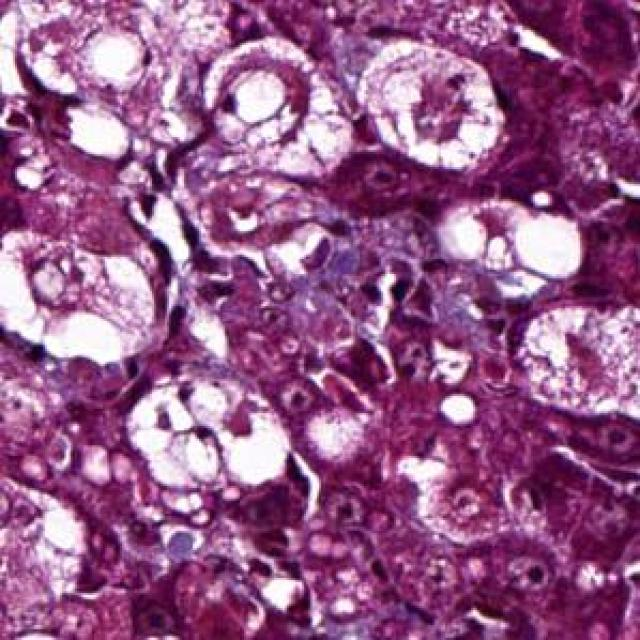ballooning: (195, 32, 351, 182), (124, 370, 298, 499), (353, 36, 507, 174), (430, 193, 589, 306)
